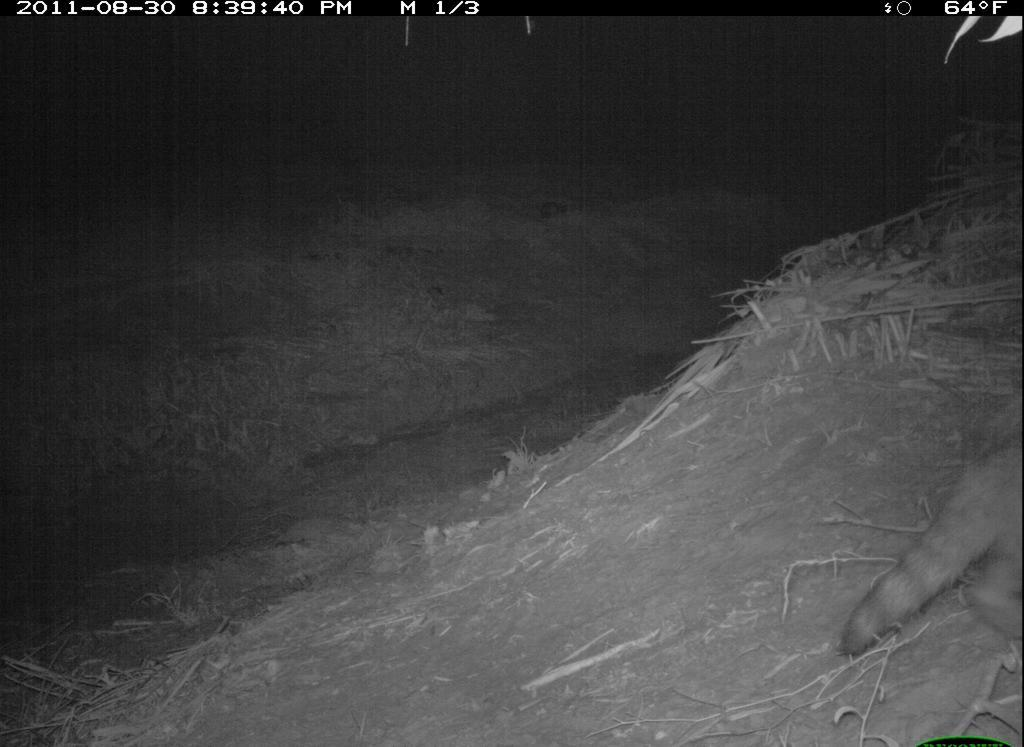raccoon: (838, 434, 1023, 666)
